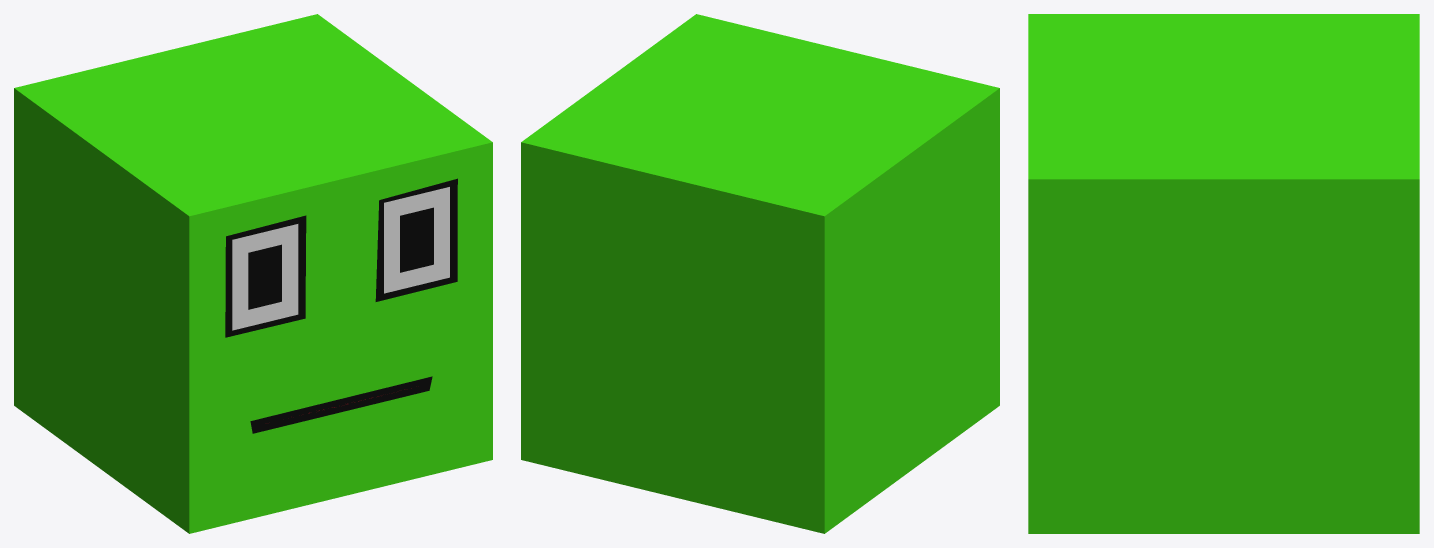
The model's file is 20210327_shapekey.gltf.
3 views of the same model, side by side, from view 1: azimuth 30°, elevation 25°; view 2: azimuth 150°, elevation 25°; view 3: azimuth 270°, elevation 25° (orthographic). The views are drawn at different scales.
Visible parts, largest first — view 1: Cube; view 2: Cube; view 3: Cube.
Boxes of the visible parts, left/top/right/bottom form: Cube: left=14, top=14, right=492, bottom=533; Cube: left=521, top=14, right=999, bottom=533; Cube: left=1028, top=14, right=1419, bottom=533.
Bounding box in the file's own units: 2 × 2 × 2.
